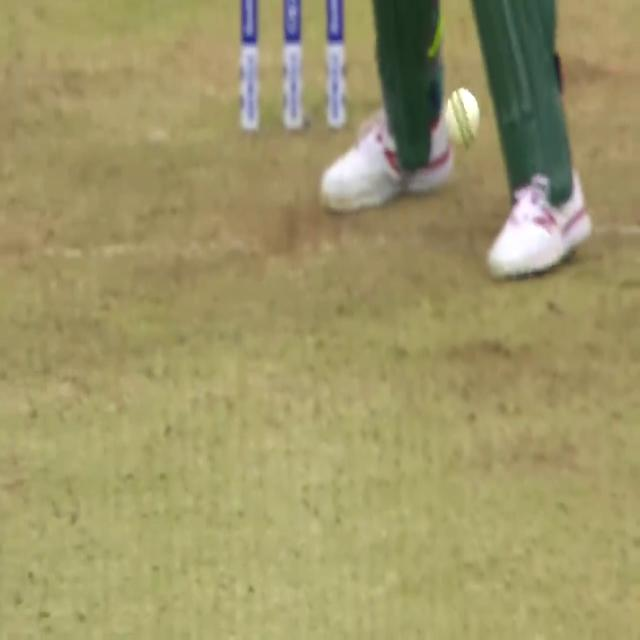ball: (439, 78, 487, 158)
